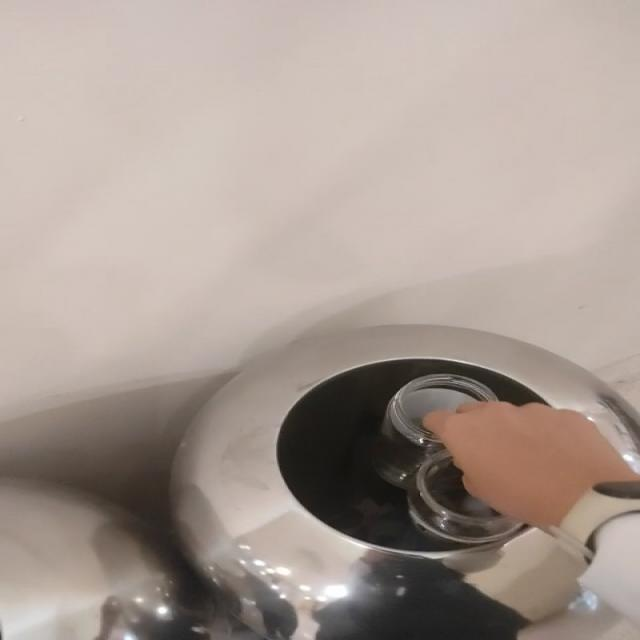glass: (373, 374, 525, 544)
